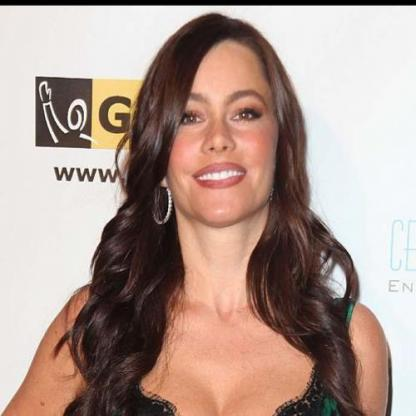long-hair: (85, 227, 355, 322)
